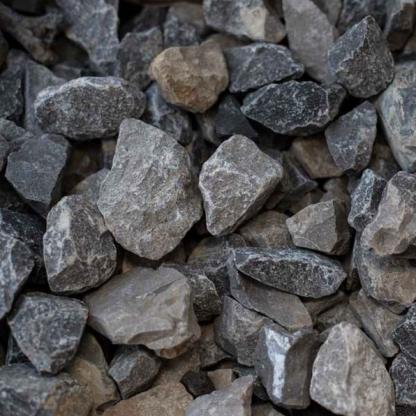Sedimentary_Limestone: (101, 115, 196, 266), (86, 260, 220, 363), (195, 129, 297, 232), (348, 170, 416, 302), (39, 189, 127, 289), (304, 321, 396, 415), (142, 39, 231, 115), (233, 76, 346, 134), (8, 290, 82, 373), (0, 126, 76, 203), (29, 76, 127, 134), (378, 73, 415, 171), (286, 200, 346, 260)
